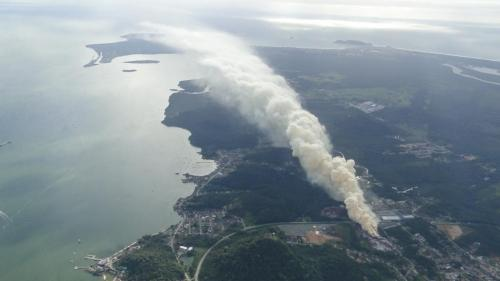smoke: (240, 76, 284, 119), (293, 129, 338, 159), (323, 173, 359, 191)
